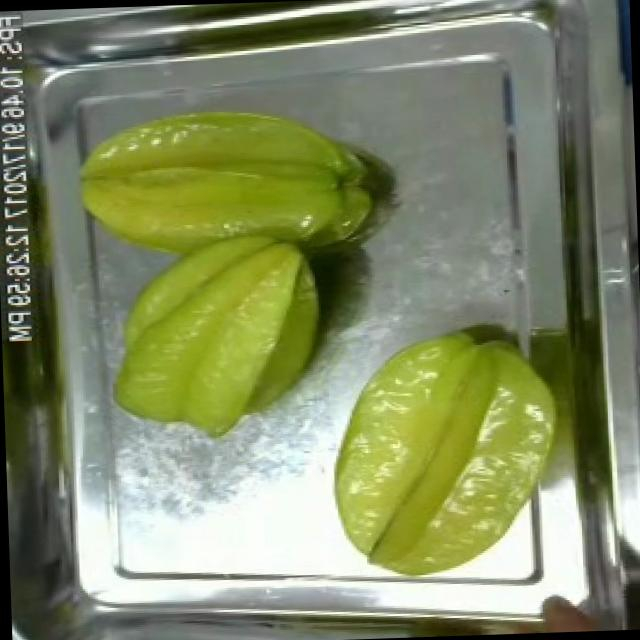fruit: (87, 103, 337, 456), (320, 312, 575, 592)
